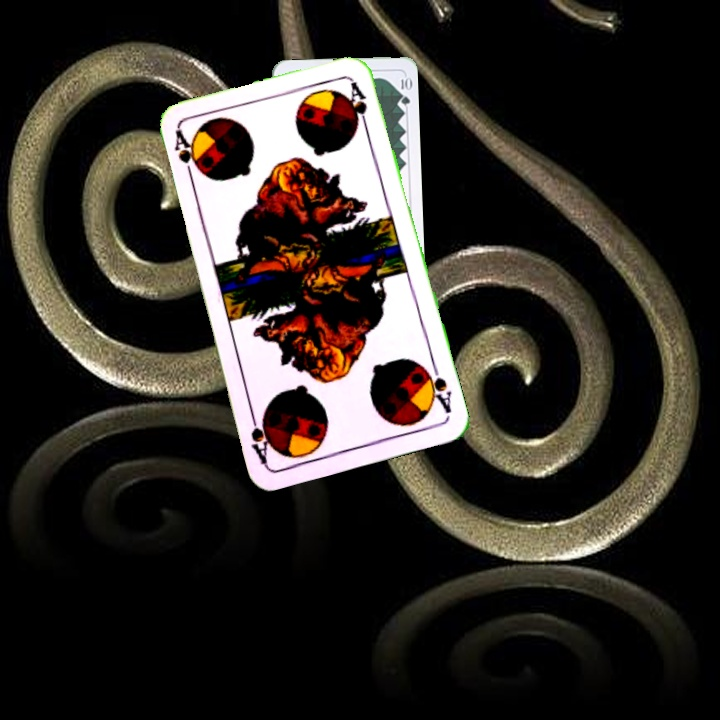SA: (419, 358, 454, 416), (170, 127, 201, 185)
